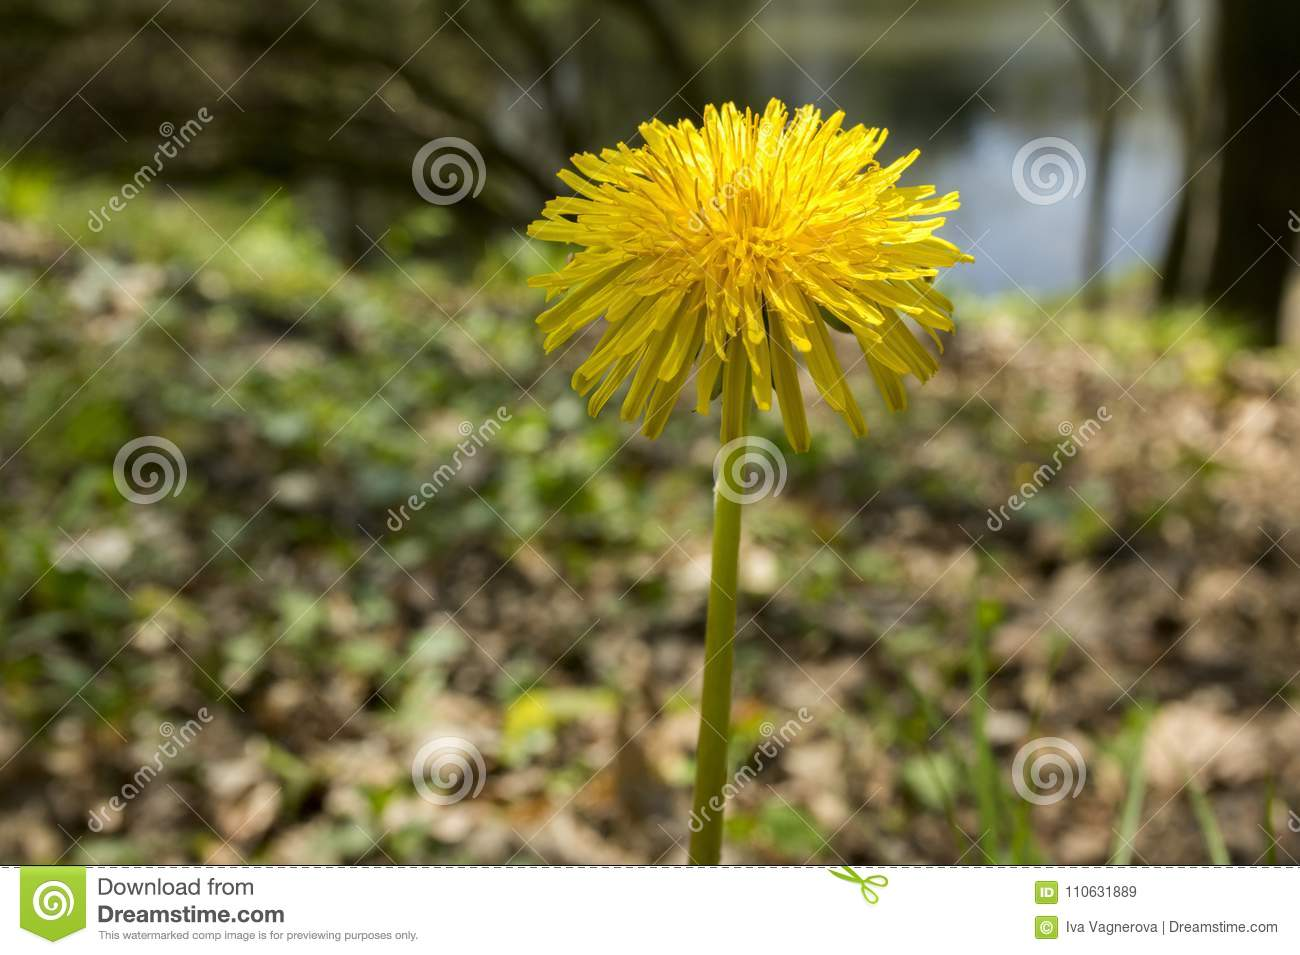dandelion: (521, 109, 958, 457)
